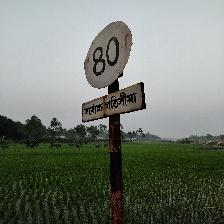Speed-limit: (82, 19, 144, 123)
